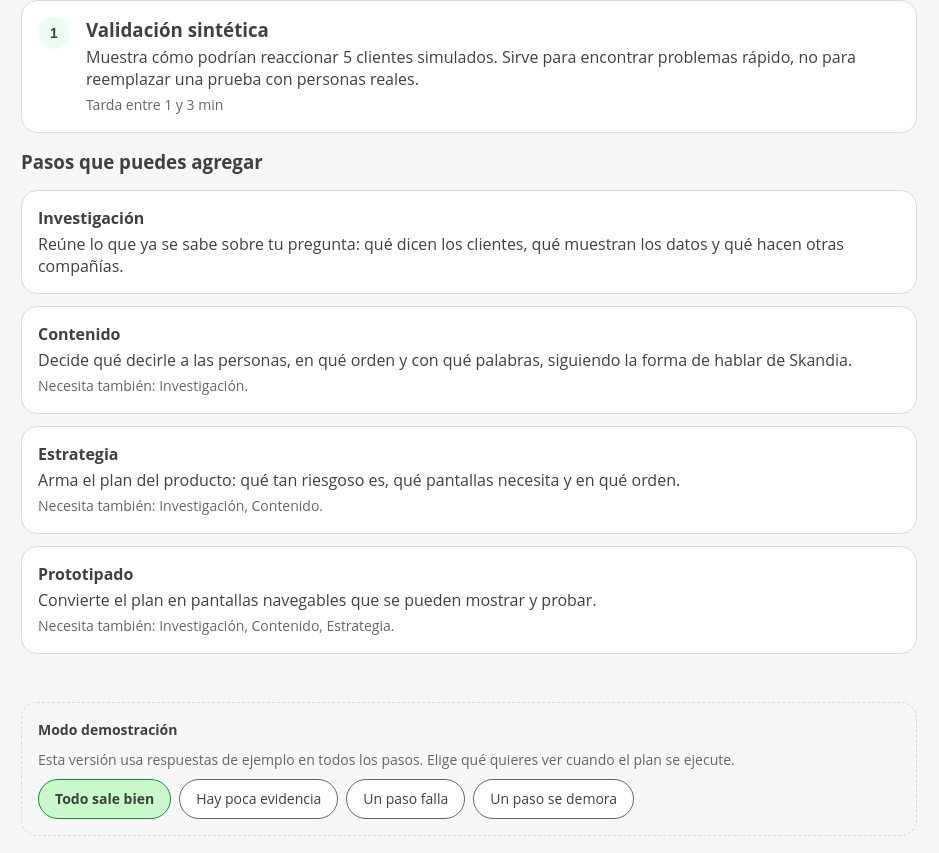
Scenario: App › runs the plan under the demo scenario the reviewer picked
(page scrolled)
Click the button "Un paso falla" at (406, 799), box [346,779,465,819]
Wait 5000 ms
(page scrolled)
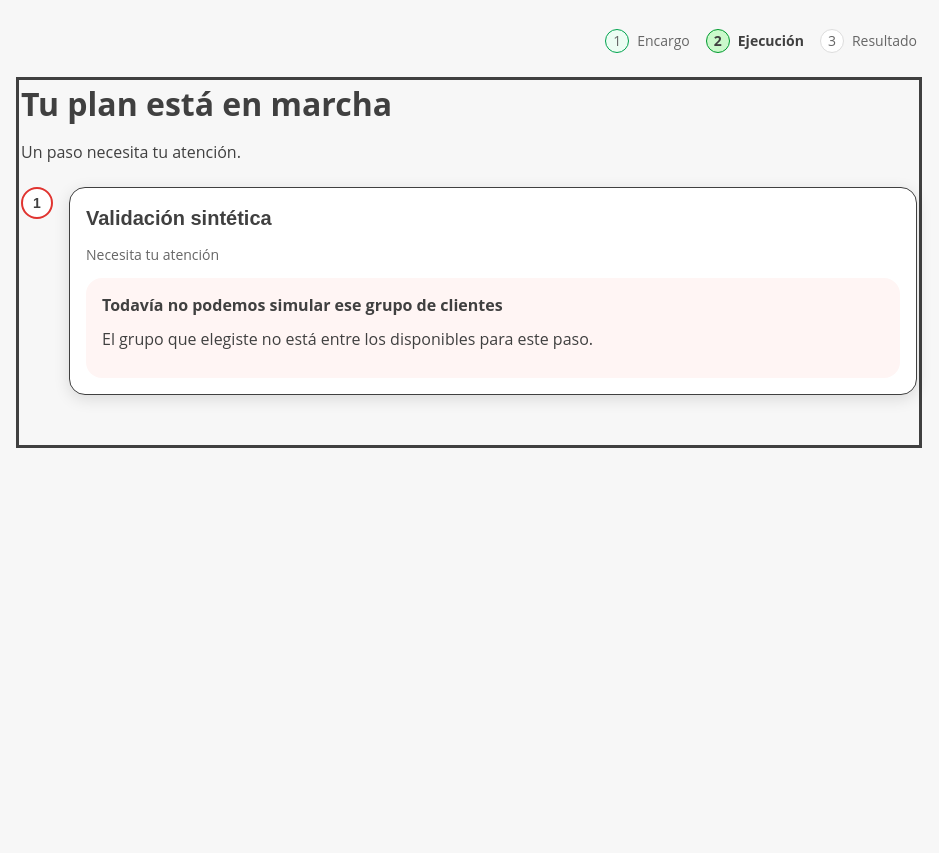
Expected: the 2nd message shows "Todavía no podemos simular ese grupo de clientes", [102,294,503,316]
